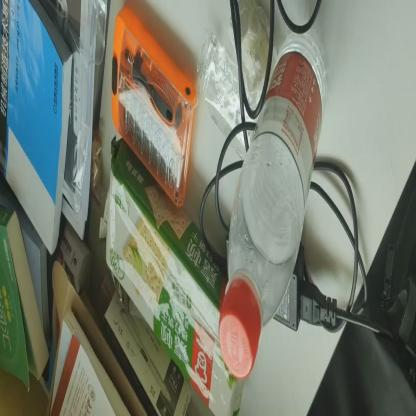Glass Bottle: (218, 30, 328, 380)
